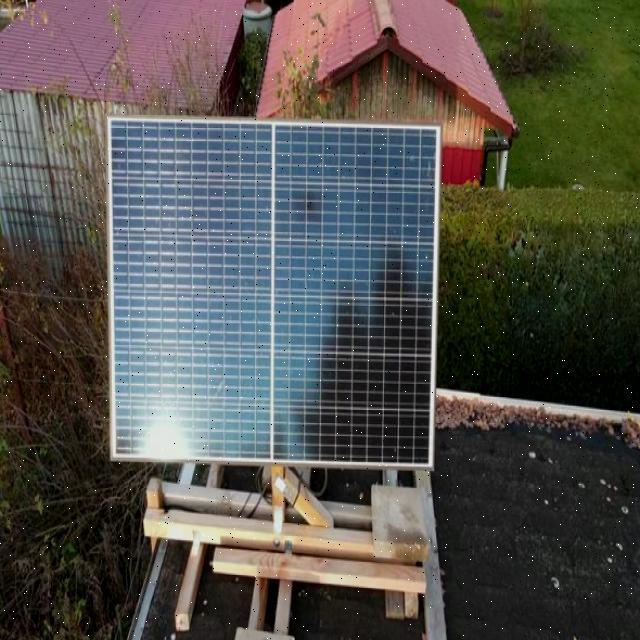Normal Solar Panel: (108, 118, 440, 466)
